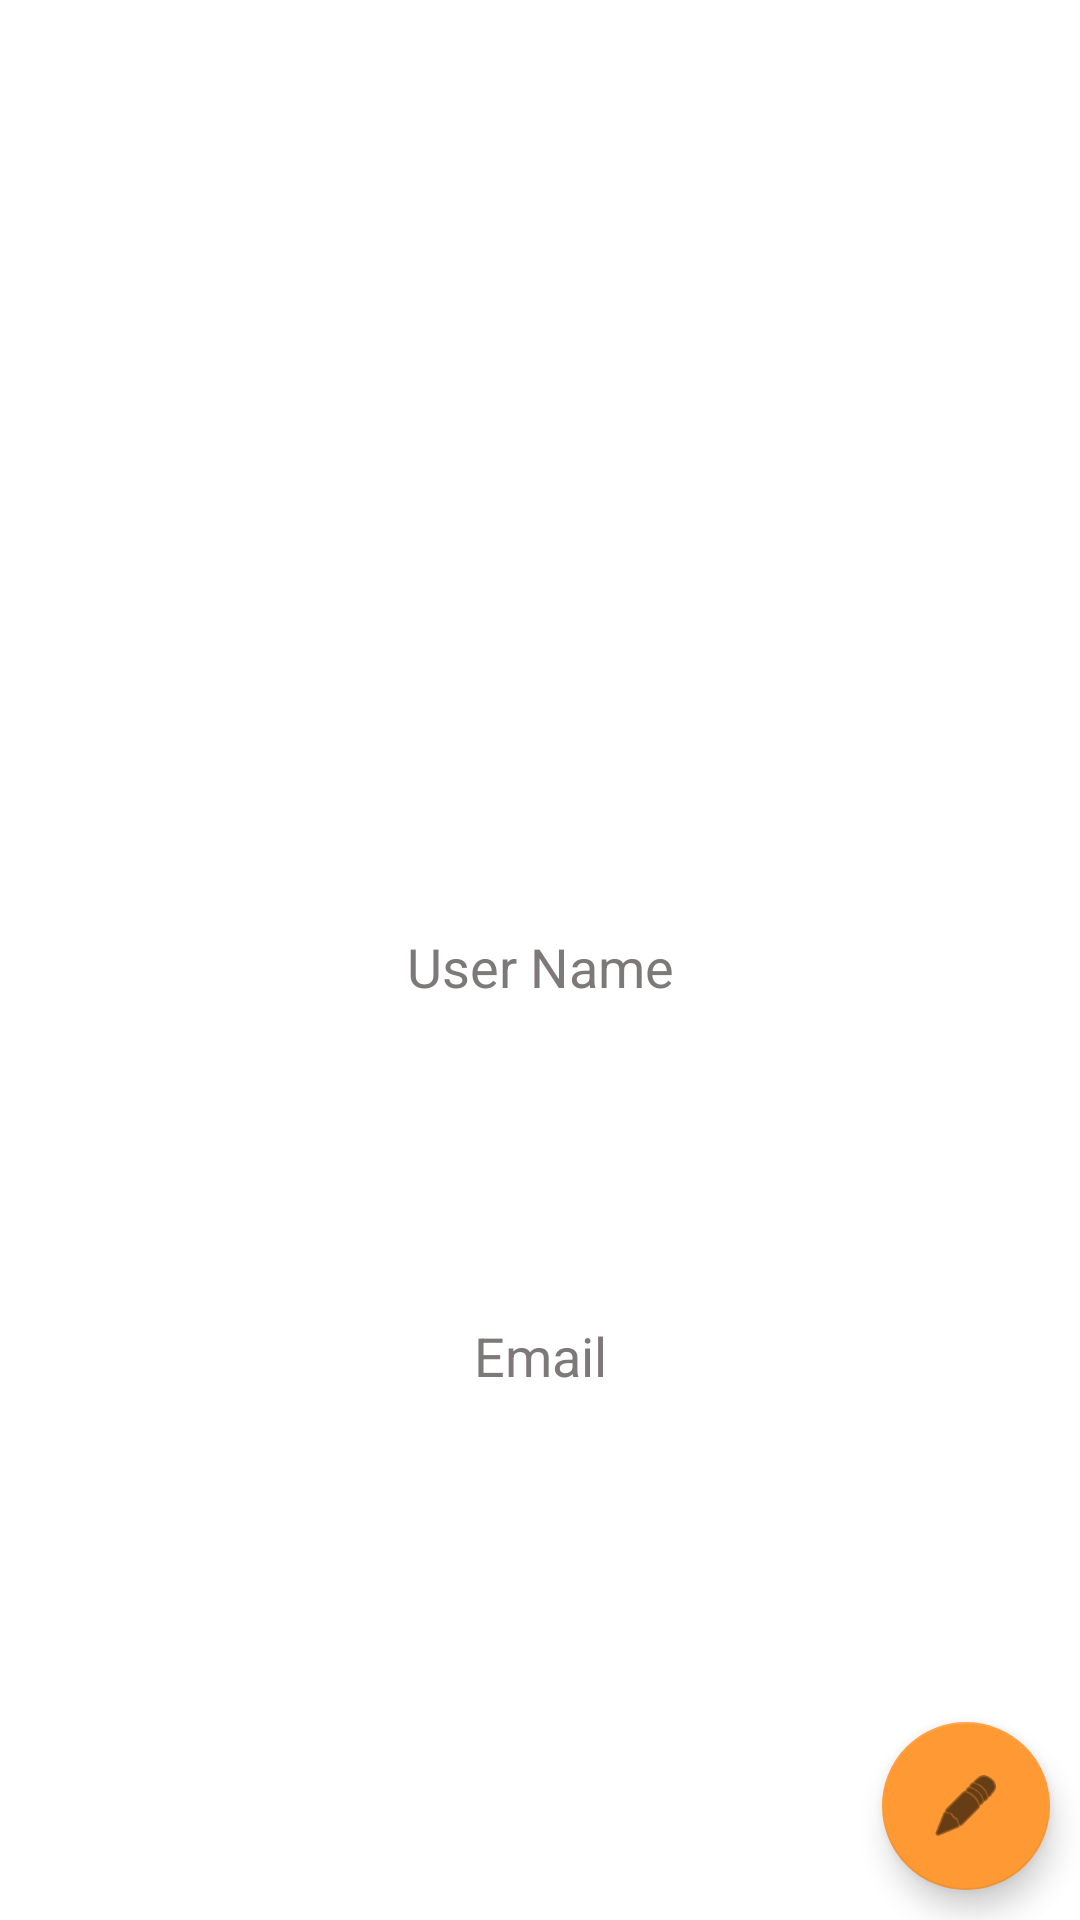

Where to tap for icons on this 1080*1920 app screen, as point (x, y):
edit: point (966, 1806)
